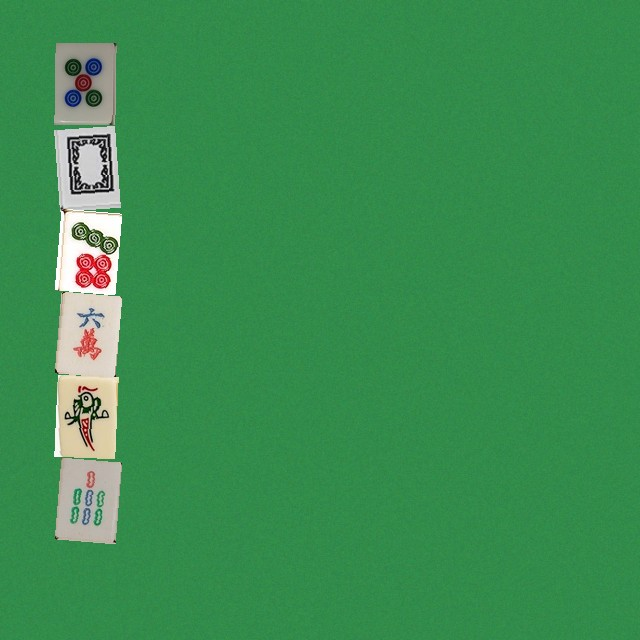tile: (54, 42, 115, 124), (54, 125, 115, 207), (54, 208, 115, 290), (54, 291, 115, 373), (54, 374, 115, 456), (54, 457, 115, 539)
